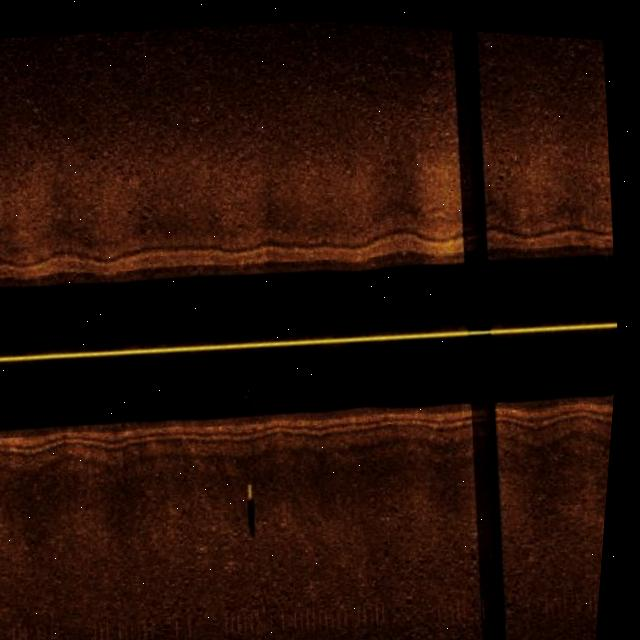mine: (243, 468, 277, 532)
